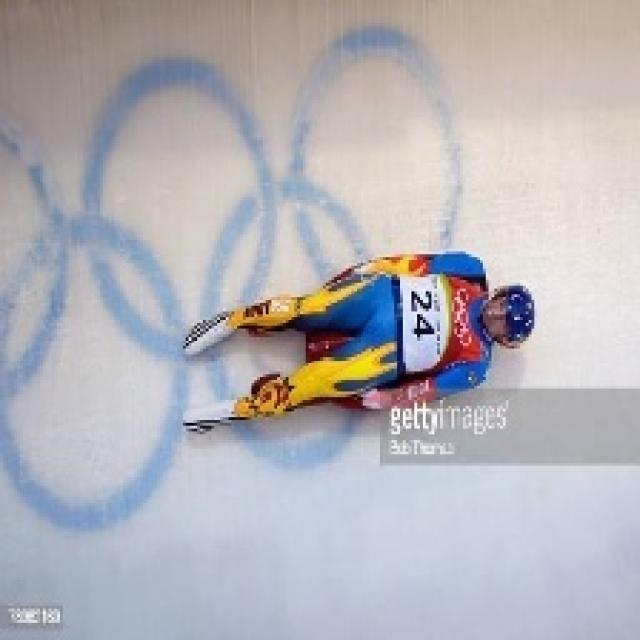luge: (178, 237, 573, 454)
